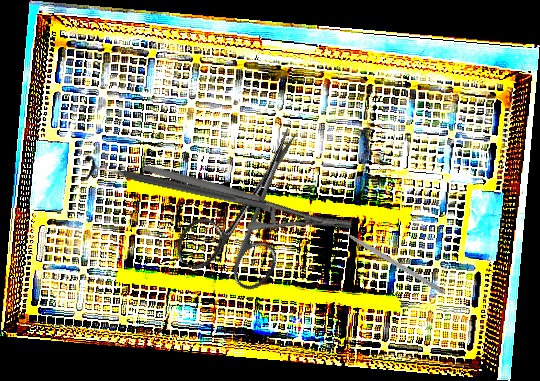Chopper: (330, 216, 450, 296)
Fixation Ring: (80, 152, 269, 221)
Iris Scissors: (170, 106, 334, 302)
Needle Holder: (142, 104, 356, 288)
